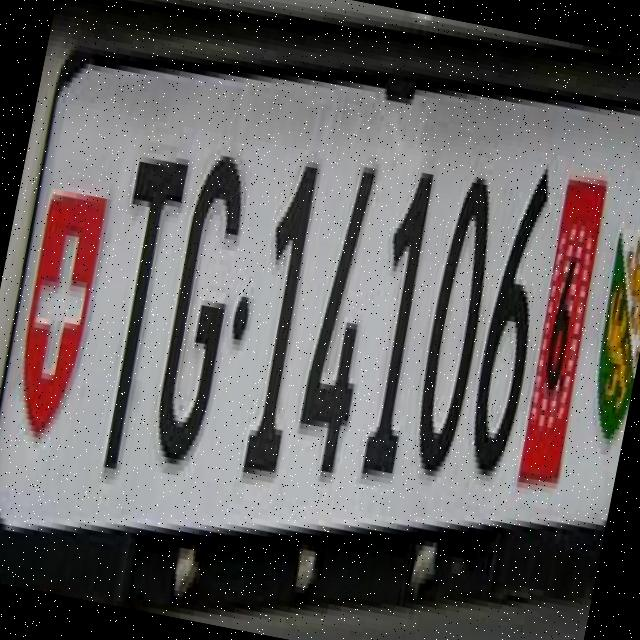Autre: (0, 63, 640, 526)
